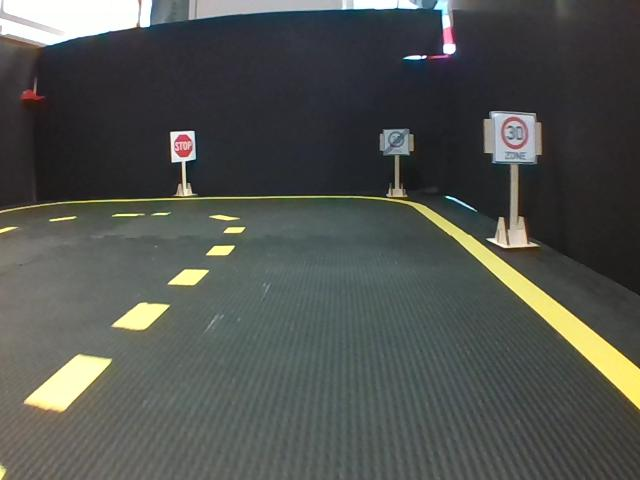30: (491, 112, 536, 162)
no30: (382, 128, 412, 156)
stop: (170, 131, 196, 161)
